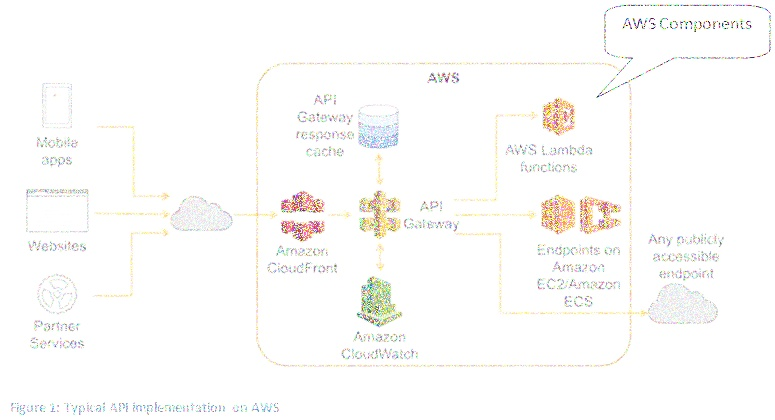API-Gateway: (355, 187, 406, 241)
Cloud Watch: (353, 274, 409, 330)
Cloudfront: (278, 183, 328, 244)
Dynamo DB: (355, 100, 404, 152)
EC2: (538, 189, 578, 237)
Endpoint: (580, 187, 624, 238)
Internet: (648, 279, 724, 329), (170, 191, 237, 234)
Lambda: (540, 92, 581, 138)
Mobile Client: (35, 75, 84, 134)
Websites: (22, 182, 95, 241)
